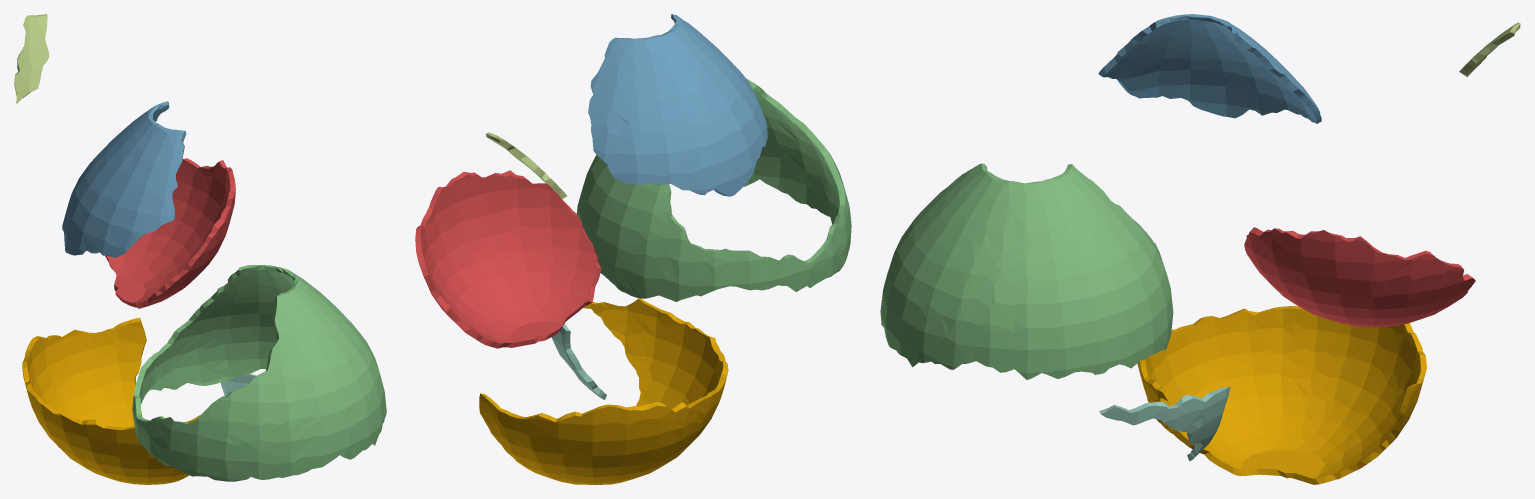
The model's file is fractured_53_6pcs_transformed.glb.
3 renders of one model, left to right at view 1: azimuth 30°, elevation 25°; view 2: azimuth 150°, elevation 25°; view 3: azimuth 270°, elevation 25°, orthographic. The views are drawn at different scales.
Parts seen in each view (by area): view 1: piece_3.obj, piece_0.obj, piece_2.obj, piece_1.obj, piece_5.obj; view 2: piece_1.obj, piece_3.obj, piece_2.obj, piece_0.obj, piece_4.obj, piece_5.obj; view 3: piece_3.obj, piece_0.obj, piece_1.obj, piece_2.obj, piece_4.obj, piece_5.obj.
Part boxes in pixels (x1,y1,x2,y2): piece_3.obj: (132, 265, 386, 481); piece_0.obj: (22, 317, 200, 484); piece_2.obj: (62, 101, 186, 257); piece_1.obj: (105, 158, 235, 308); piece_5.obj: (14, 14, 49, 103); piece_1.obj: (415, 170, 601, 348); piece_3.obj: (576, 78, 851, 301); piece_2.obj: (588, 14, 767, 196); piece_0.obj: (479, 298, 728, 484); piece_4.obj: (551, 324, 606, 399); piece_5.obj: (486, 132, 566, 198); piece_3.obj: (880, 163, 1173, 379); piece_0.obj: (1137, 306, 1426, 484); piece_1.obj: (1244, 227, 1475, 327); piece_2.obj: (1098, 14, 1321, 123); piece_4.obj: (1099, 387, 1230, 461); piece_5.obj: (1459, 22, 1520, 76).
Size of the model in its own units: 0.9657 by 1.6 by 2.11.
